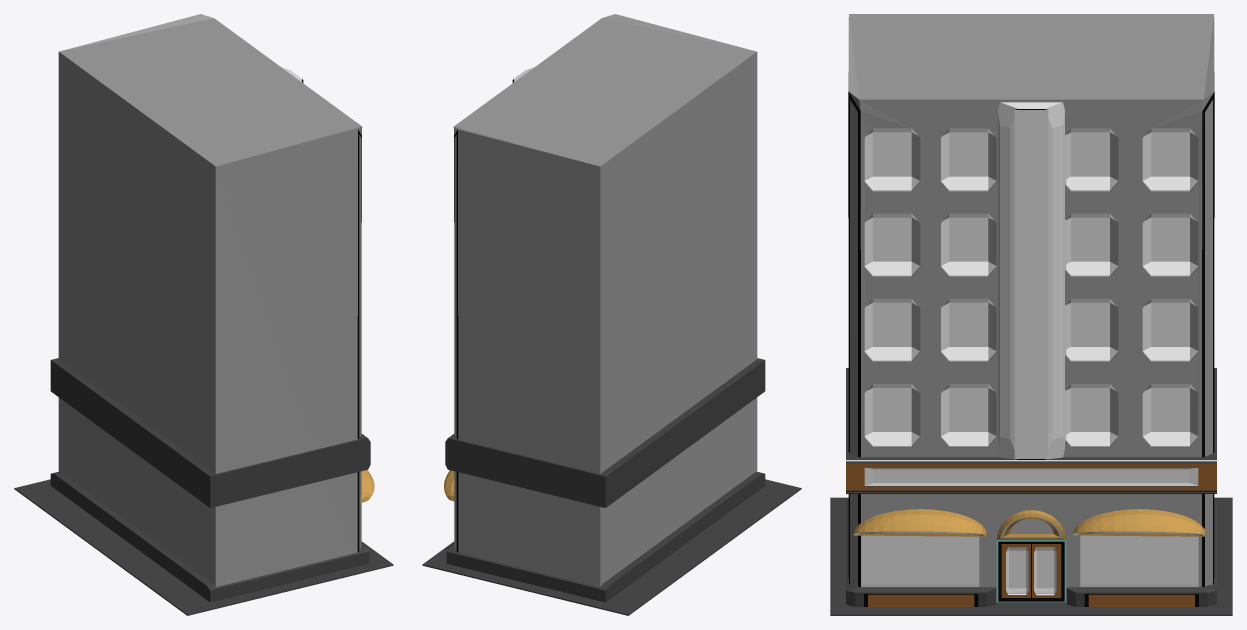
Rendered from hotel.dae.
3 renders of one model, left to right at view 1: azimuth 30°, elevation 25°; view 2: azimuth 150°, elevation 25°; view 3: azimuth 270°, elevation 25°, orthographic. The views are drawn at different scales.
Visible parts, largest first — view 1: Cube.004, Cube.008, Cube.009; view 2: Cube.004, Cube.008, Cube.009; view 3: Cube.004, Cube.007, Cube.008, Cube.009, Cube.005, Cube.006, Cylinder.001.
Part boxes in pixels (x1,y1,x2,y2): Cube.004: [58, 14, 362, 586]; Cube.008: [50, 358, 370, 602]; Cube.009: [14, 479, 393, 615]; Cube.004: [453, 14, 757, 586]; Cube.008: [445, 358, 765, 602]; Cube.009: [422, 479, 801, 615]; Cube.004: [848, 14, 1214, 603]; Cube.007: [998, 102, 1066, 459]; Cube.008: [846, 368, 1216, 606]; Cube.009: [830, 497, 1232, 615]; Cube.005: [853, 509, 1205, 536]; Cube.006: [996, 540, 1066, 602]; Cylinder.001: [997, 510, 1065, 539].
Size of the model in its own units: 8.1 by 11.57 by 16.16.
